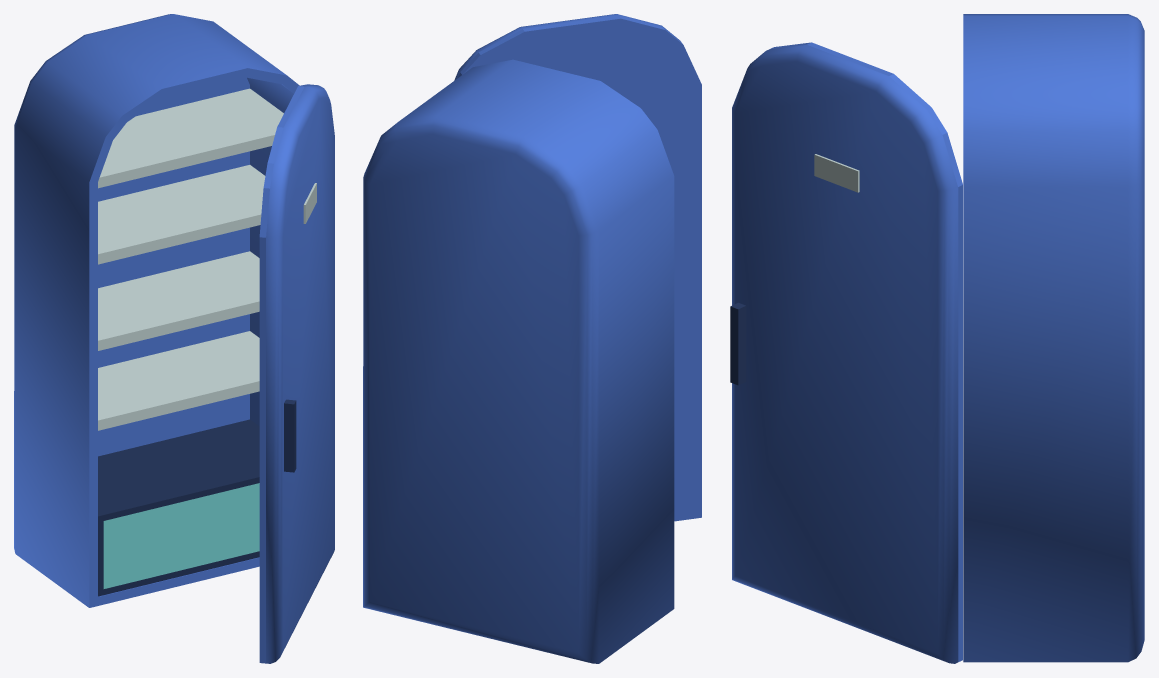
File: Fridge.FBX
The picture shows the model from 3 angles, left to right: view 1: azimuth 30°, elevation 25°; view 2: azimuth 150°, elevation 25°; view 3: azimuth 270°, elevation 25°; orthographic projection. The views are drawn at different scales.
Parts seen in each view (by area): view 1: Refrige; view 2: Refrige; view 3: Refrige.
Part boxes in pixels (x1=…): Refrige: x1=14, y1=14, x2=334, y2=663; Refrige: x1=363, y1=14, x2=701, y2=663; Refrige: x1=730, y1=14, x2=1144, y2=663.
Bounding box in the file's own units: 8.44 × 17.13 × 11.48.
